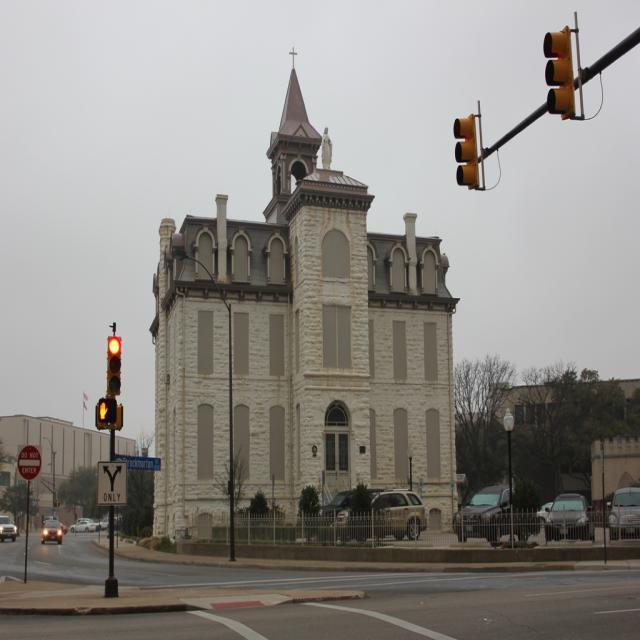off traffic light: (539, 28, 581, 115), (451, 116, 486, 192)
traffic light: (107, 332, 123, 393)
